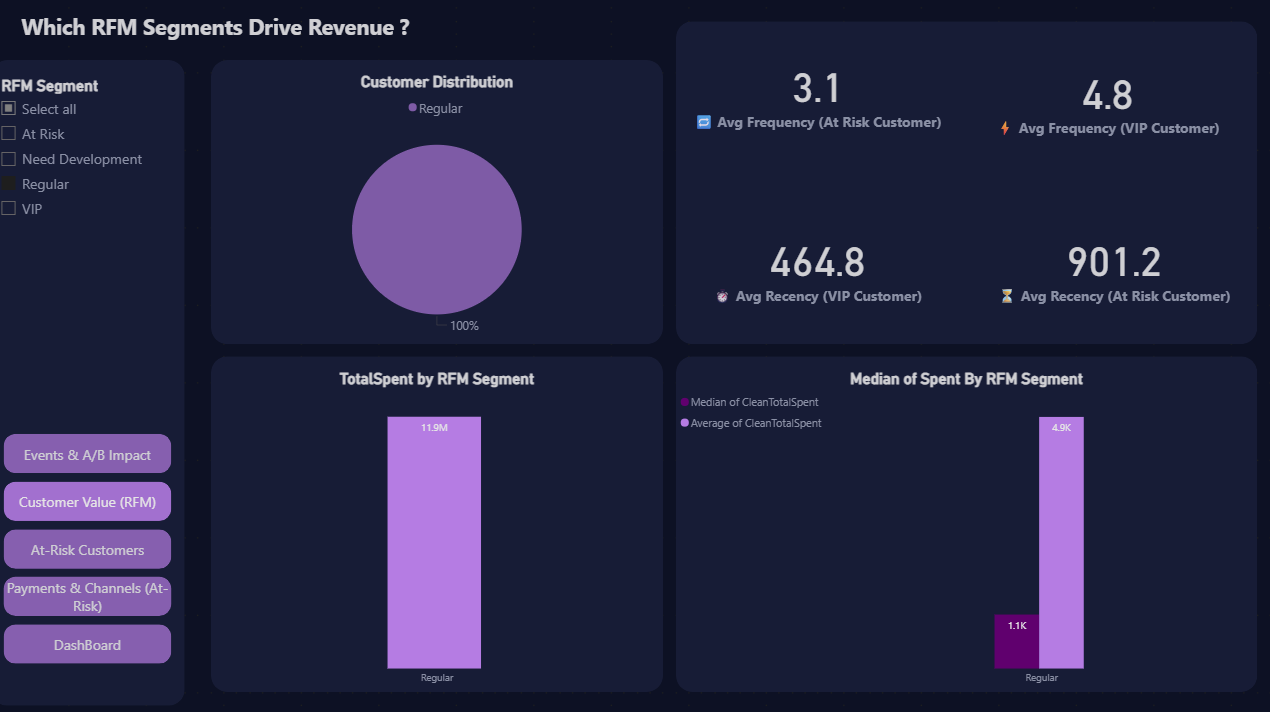

This screenshot's page, from the dashboard's own definition file:
{"tool":"powerbi","page":{"name":"Customer Value (RFM)","canvas":[1600,900],"ordinal":1},"visuals":[{"type":"shape","box":[272,80,560,352],"z":0},{"type":"shape","box":[0,80,240,800],"z":1000},{"type":"shape","box":[848,32,720,400],"z":2000},{"type":"shape","box":[848,448,720,416],"z":3000},{"type":"shape","box":[272,448,560,416],"z":4000},{"type":"shape","box":[864,48,576,336],"z":5000},{"type":"pieChart","title":"Customer Distribution","fields":{"Category":["arpand_ecommerce_dataset.RFM Category"],"Y":["CountNonNull(arpand_ecommerce_dataset.RFM Category)"]},"box":[272,96,560,336],"z":6000},{"type":"clusteredColumnChart","title":"Median of Spent By RFM Segment","fields":{"Category":["arpand_ecommerce_dataset.RFM Category"],"Y":["Median(arpand_ecommerce_dataset.CleanTotalSpent)","Avg(arpand_ecommerce_dataset.CleanTotalSpent)"]},"box":[848,464,720,400],"z":7000},{"type":"lineClusteredColumnComboChart","title":"TotalSpent by RFM Segment","fields":{"Category":["arpand_ecommerce_dataset.RFM Category"],"Y":["Sum(arpand_ecommerce_dataset.CleanTotalSpent)"]},"box":[272,464,560,400],"z":8000},{"type":"slicer","fields":{"Values":["arpand_ecommerce_dataset.RFM Segment"]},"box":[0,96,240,240],"z":9000},{"type":"card","fields":{"Values":["Measure Table.Avg Frequency (At Risk Customer)"]},"box":[848,32,352,176],"z":10000},{"type":"card","fields":{"Values":["Measure Table.Avg Recency (At Risk Customer)"]},"box":[1216,240,352,192],"z":11000},{"type":"card","fields":{"Values":["Measure Table.Avg Recency (VIP Customer)"]},"box":[864,240,320,192],"z":12000},{"type":"card","fields":{"Values":["Measure Table.Avg Frequency (VIP Customer)"]},"box":[1216,32,336,192],"z":13000},{"type":"pageNavigator","box":[16,544,208,288],"z":14000},{"type":"textbox","box":[32,16,560,64],"z":15000}]}

Visuals, with their boxes in screenshot pixels (x1, y1, x2, y2), scaled from the page's 1600x900 canvas onto the 1270x712 screenshot:
shape: region(216, 63, 660, 342)
shape: region(0, 63, 190, 696)
shape: region(673, 25, 1245, 342)
shape: region(673, 354, 1245, 684)
shape: region(216, 354, 660, 684)
shape: region(686, 38, 1143, 304)
"Customer Distribution" pieChart: region(216, 76, 660, 342)
"Median of Spent By RFM Segment" clusteredColumnChart: region(673, 367, 1245, 684)
"TotalSpent by RFM Segment" lineClusteredColumnComboChart: region(216, 367, 660, 684)
slicer - arpand_ecommerce_dataset.RFM Segment: region(0, 76, 190, 266)
card - Measure Table.Avg Frequency (At Risk Customer): region(673, 25, 952, 165)
card - Measure Table.Avg Recency (At Risk Customer): region(965, 190, 1245, 342)
card - Measure Table.Avg Recency (VIP Customer): region(686, 190, 940, 342)
card - Measure Table.Avg Frequency (VIP Customer): region(965, 25, 1232, 177)
pageNavigator: region(13, 430, 178, 658)
textbox: region(25, 13, 470, 63)
